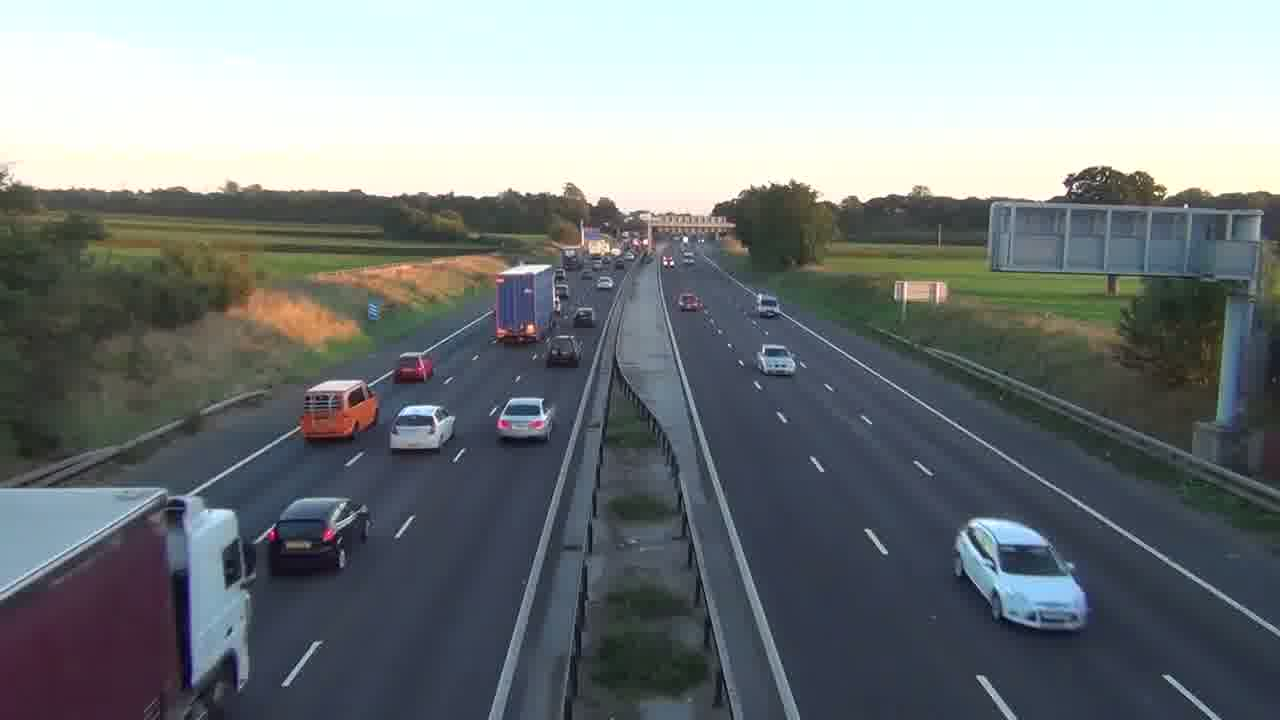bus: (301, 378, 380, 441)
car: (954, 516, 1090, 633), (253, 495, 373, 575), (389, 403, 456, 453), (495, 396, 553, 444), (395, 352, 435, 384), (756, 345, 797, 376), (545, 335, 582, 368), (676, 291, 704, 312), (572, 305, 596, 327)
truck: (1, 484, 255, 714), (495, 263, 557, 344)
